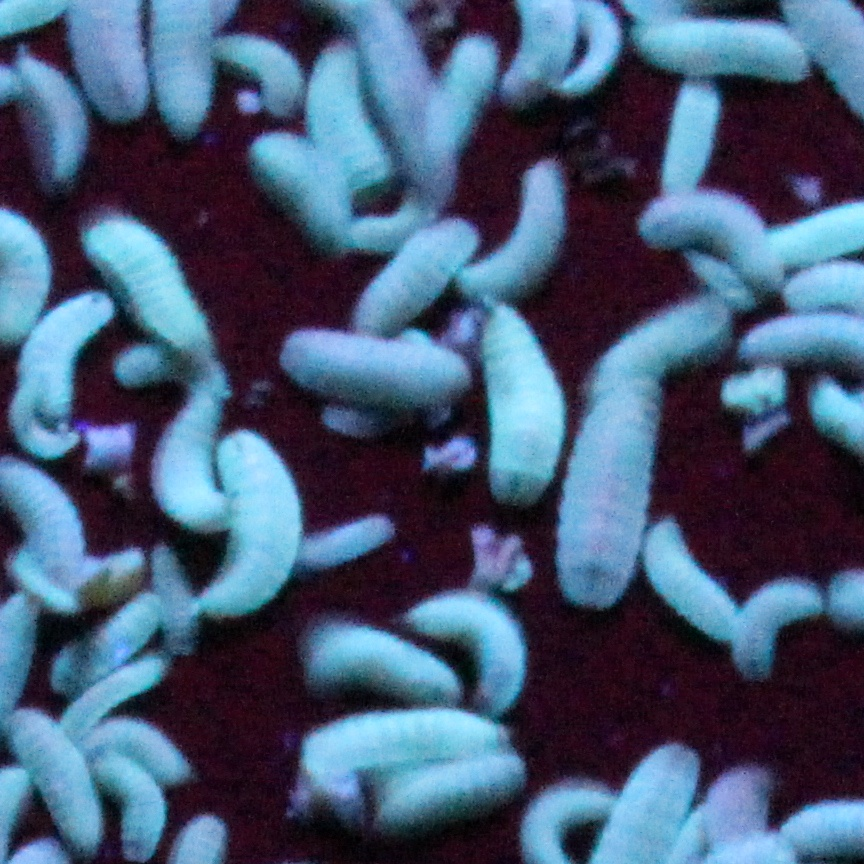larve: (566, 356, 654, 614), (479, 307, 571, 499), (91, 219, 213, 363), (300, 714, 508, 797), (461, 165, 576, 309), (205, 441, 293, 614), (357, 217, 481, 338), (279, 329, 476, 404), (398, 595, 522, 709), (420, 38, 503, 204), (249, 124, 357, 251), (640, 197, 786, 290), (20, 287, 118, 419), (303, 34, 391, 180), (15, 712, 105, 848), (630, 17, 818, 82), (600, 304, 730, 395), (159, 385, 240, 531), (647, 519, 740, 646), (308, 624, 459, 702), (366, 753, 522, 826), (54, 592, 164, 687), (15, 53, 86, 178), (735, 582, 815, 690), (659, 78, 720, 214), (694, 764, 777, 856), (98, 753, 169, 858), (88, 719, 193, 782), (288, 519, 398, 573), (147, 551, 198, 658), (674, 248, 757, 312)
